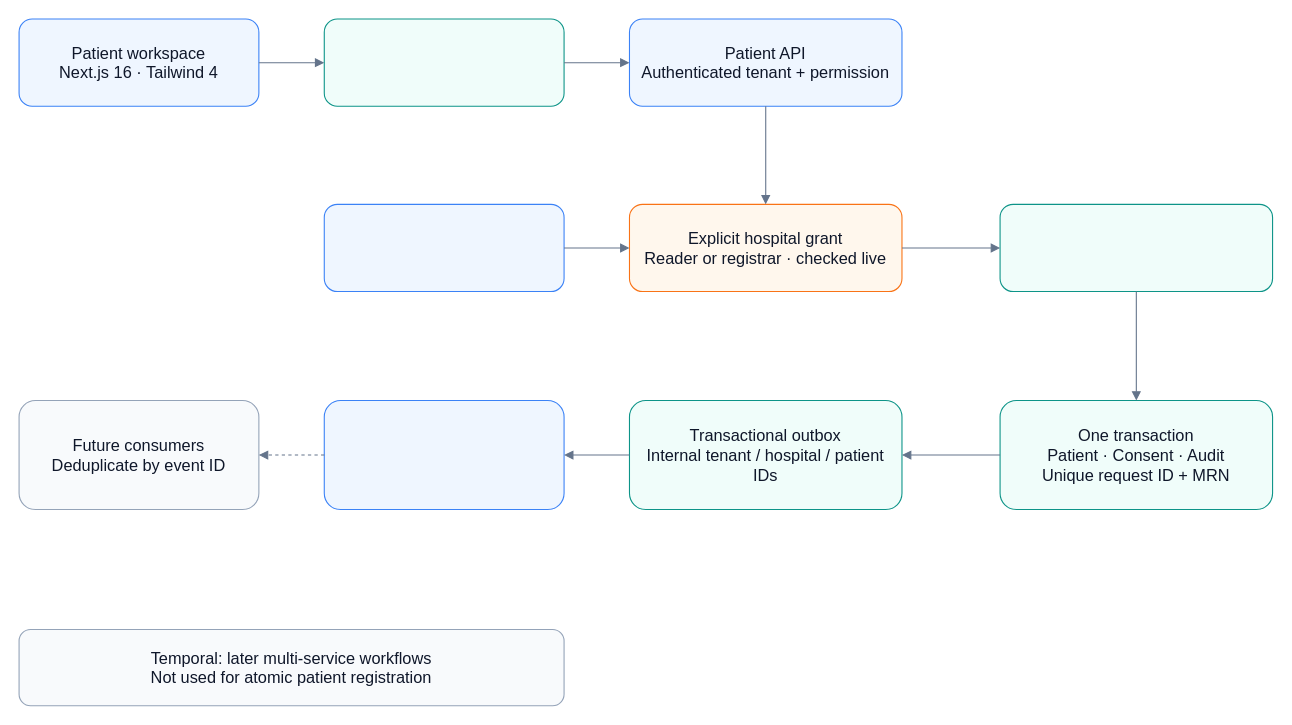
Some shapes in this 1292 by 725 pixel diagram are drawn without their labels. Here are the shapes that lost their labels. From the top down, the box of each, then its label:
(323, 18, 564, 106): Valkey Shared capacity budgets
(323, 203, 564, 292): Zitadel + onboarding Verified organisation membership
(999, 203, 1273, 292): PostgreSQL / CNPG Forced tenant + hospital RLS
(323, 399, 564, 510): NATS JetStream Durable acknowledged delivery
